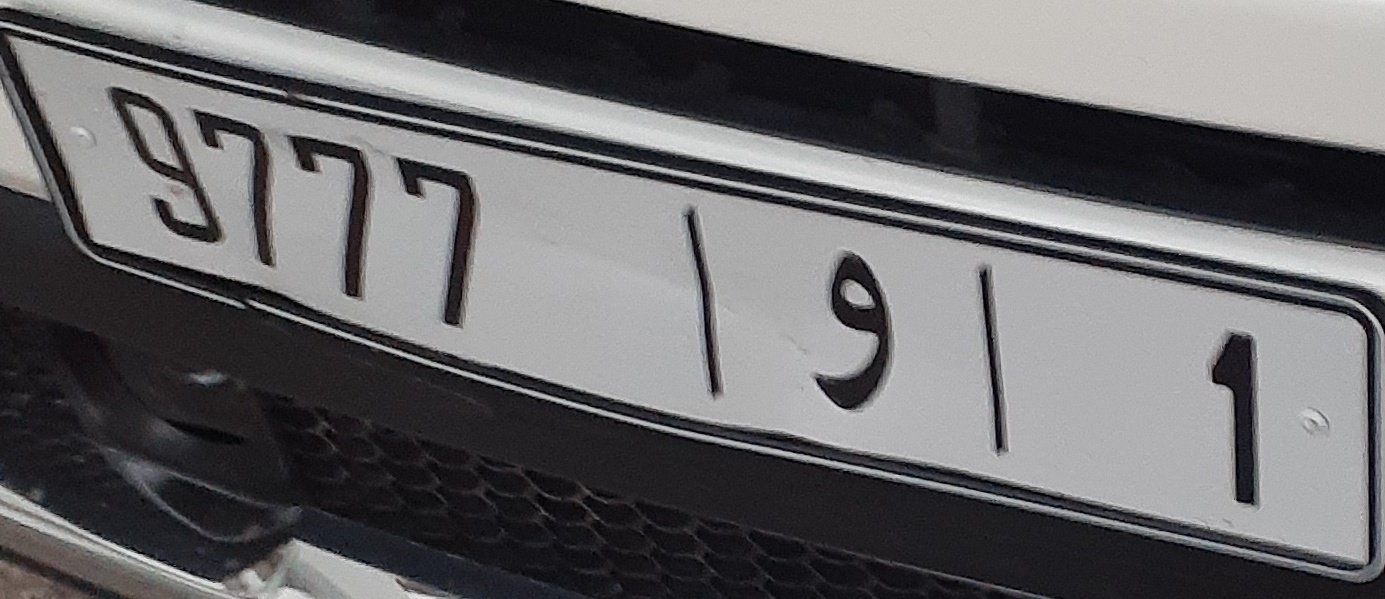1: (1202, 313, 1280, 518)
7: (389, 153, 487, 331), (281, 127, 372, 304), (189, 101, 283, 271)
9: (103, 81, 229, 251)
waw: (804, 238, 902, 423)
